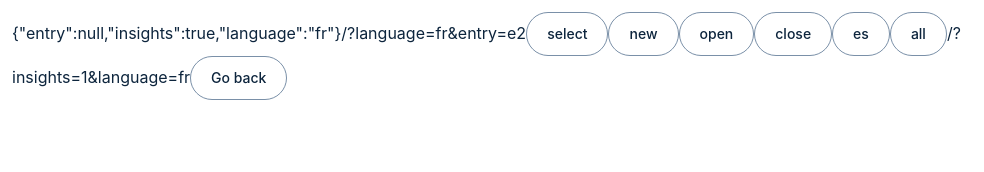
Test: useWorkspaceParams › closes deep-linked insights by replacing the URL, so closing never leaves the app
Click the button "close" at (793, 34), box [754, 12, 832, 56]
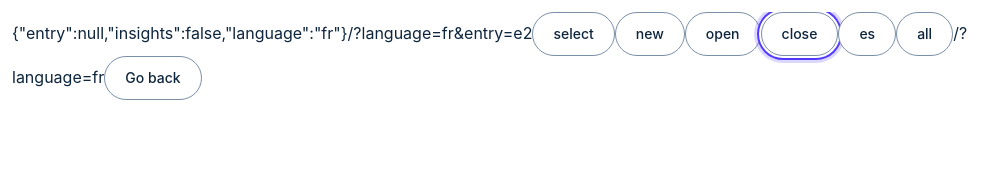
Now the text named "Location" reads "/?language=fr", box [12, 23, 967, 87]
